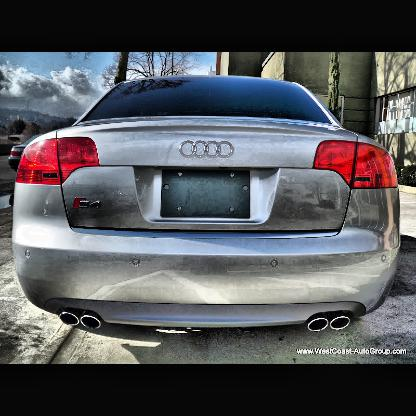Audi S4 Sedan 2007: (12, 76, 402, 337)
